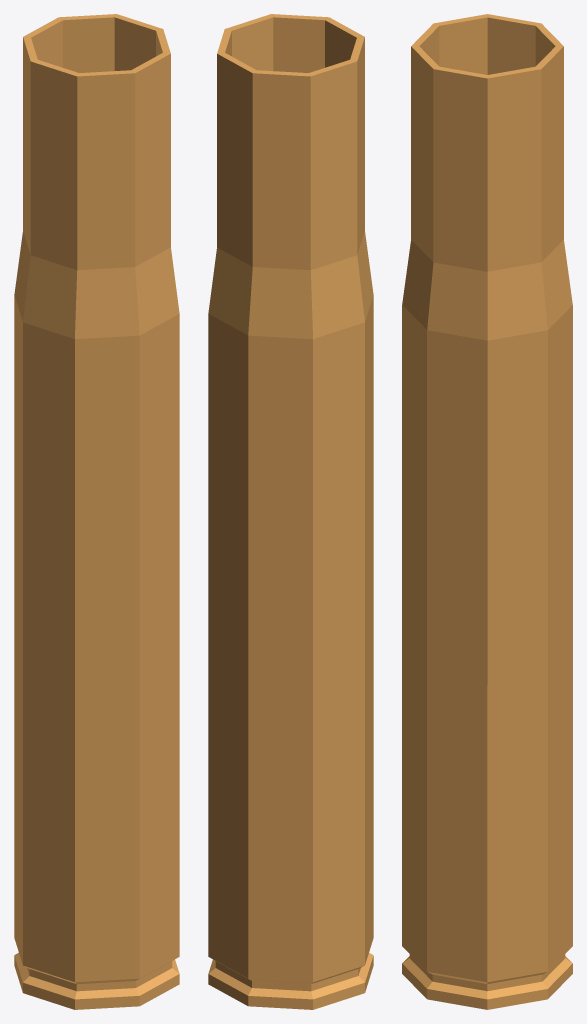
Rendered from rifle_shell_casing.fbx.
3 renders of one model, left to right at view 1: azimuth 30°, elevation 25°; view 2: azimuth 150°, elevation 25°; view 3: azimuth 270°, elevation 25°, orthographic.
Parts seen in each view (by area): view 1: Casquillo .30-06 Springfield; view 2: Casquillo .30-06 Springfield; view 3: Casquillo .30-06 Springfield.
Part boxes in pixels (box(x1,y1,x2,y2)): Casquillo .30-06 Springfield: box(14, 14, 179, 1009); Casquillo .30-06 Springfield: box(208, 14, 373, 1009); Casquillo .30-06 Springfield: box(402, 14, 572, 1009).
Bounding box in the file's own units: 0.0226 × 0.1353 × 0.0226.
